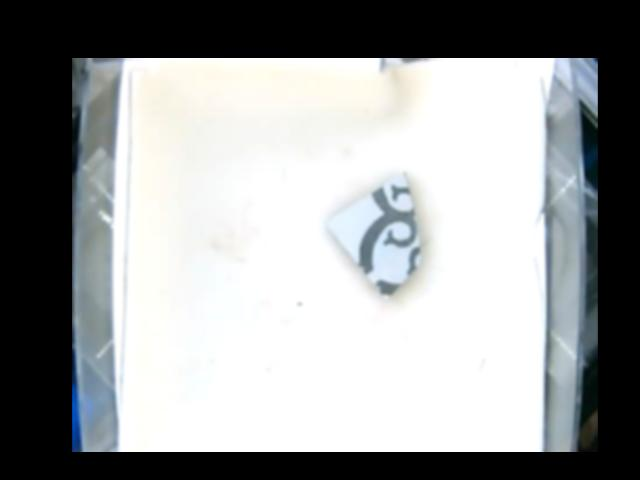China: (332, 171, 418, 300)
